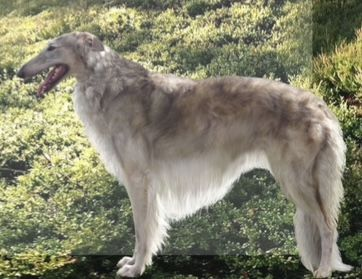borzoi: (11, 31, 356, 279)
